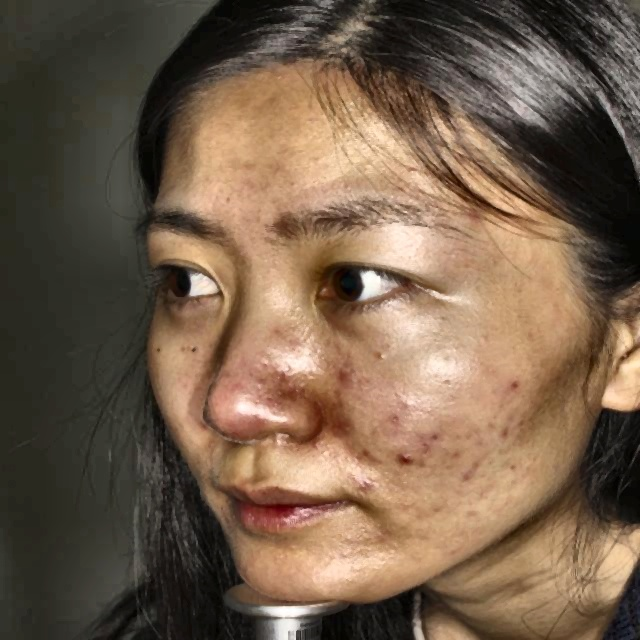pustule: (498, 373, 528, 398), (347, 475, 372, 499), (401, 445, 424, 469), (326, 364, 352, 382), (456, 462, 479, 481), (361, 448, 382, 462)
